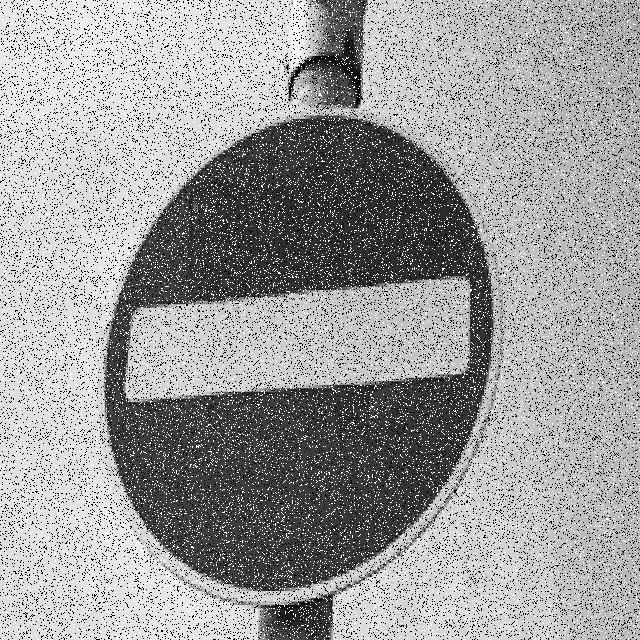no entry: (105, 115, 491, 588)
